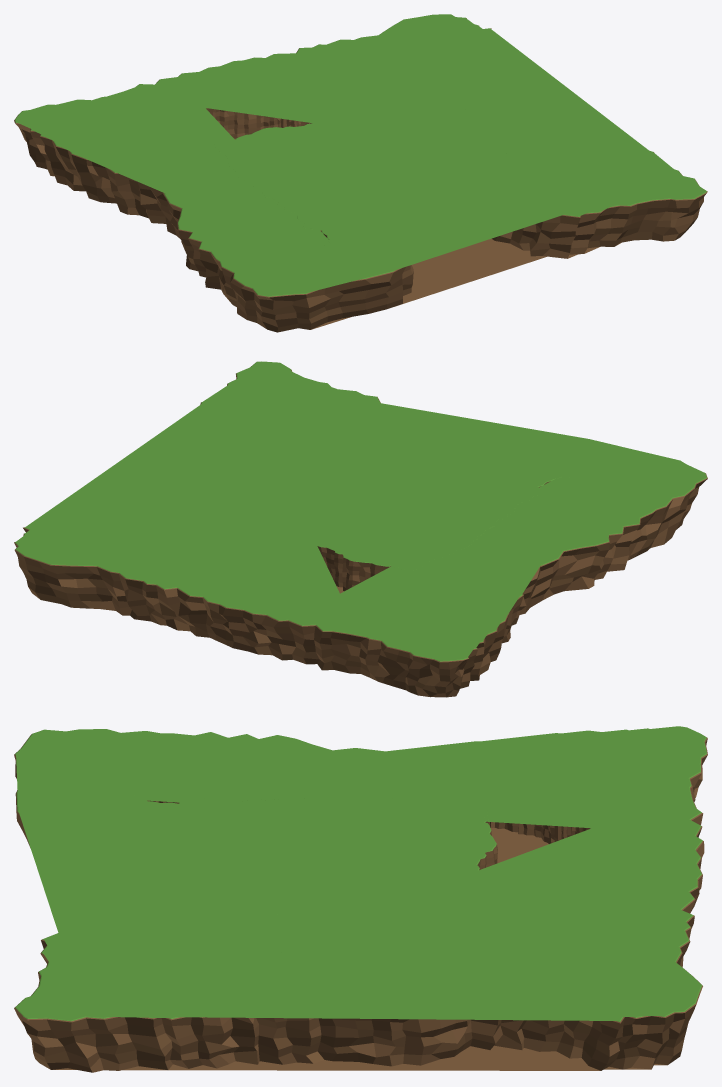
The model's file is map1_fix5.fbx.
3 renders of one model, top to bottom at view 1: azimuth 30°, elevation 25°; view 2: azimuth 150°, elevation 25°; view 3: azimuth 270°, elevation 25°, orthographic. The views are drawn at different scales.
Visible parts, largest first — view 1: Plane.001; view 2: Plane.001; view 3: Plane.001.
Part boxes in pixels (bbox=[...]): Plane.001: bbox=[14, 14, 707, 332]; Plane.001: bbox=[14, 361, 707, 697]; Plane.001: bbox=[14, 726, 707, 1072].
Size of the model in its own units: 400 by 37.89 by 395.
